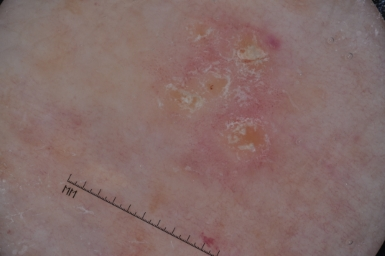seborrheic keratosis: (153, 19, 285, 196)
